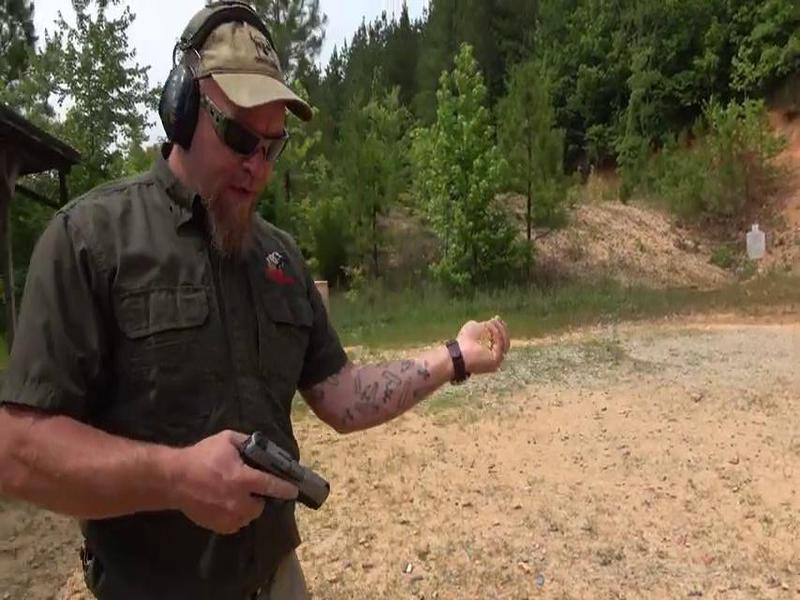Pistola: (206, 424, 357, 528)
